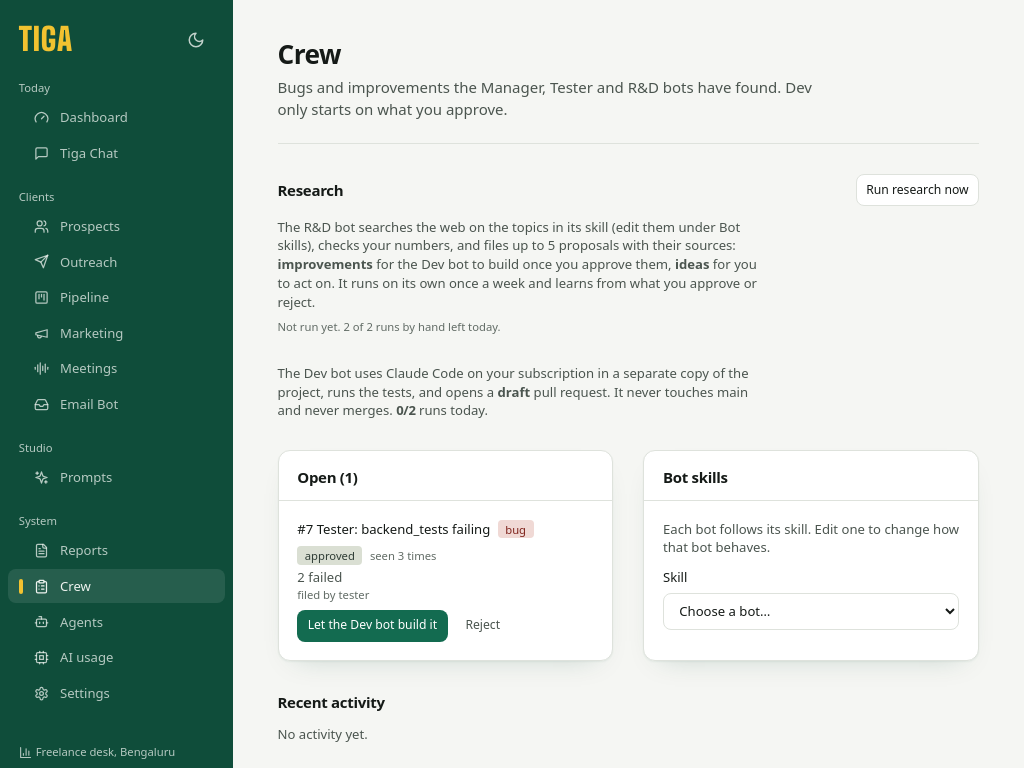
Test case: Crew › lets the Dev bot build an approved issue
The width and height of the screenshot is (1024, 768).
Expected: the text "never touches main and never merges" is shown, [278,383,748,420]
Click the button named "let the dev bot build it #7". click: coordinates (372, 626)
box: [297,610,448,642]
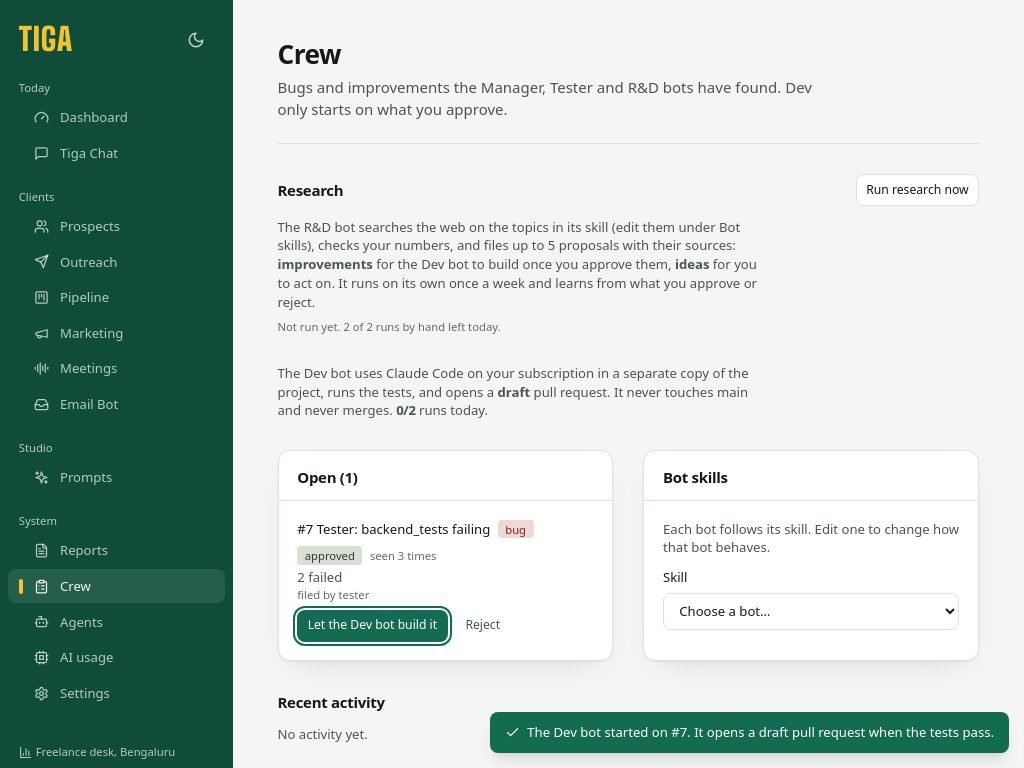
Expected: the text "The Dev bot started on #7. It opens a draft pull request when the tests pass." is shown, [490,712,1009,753]
